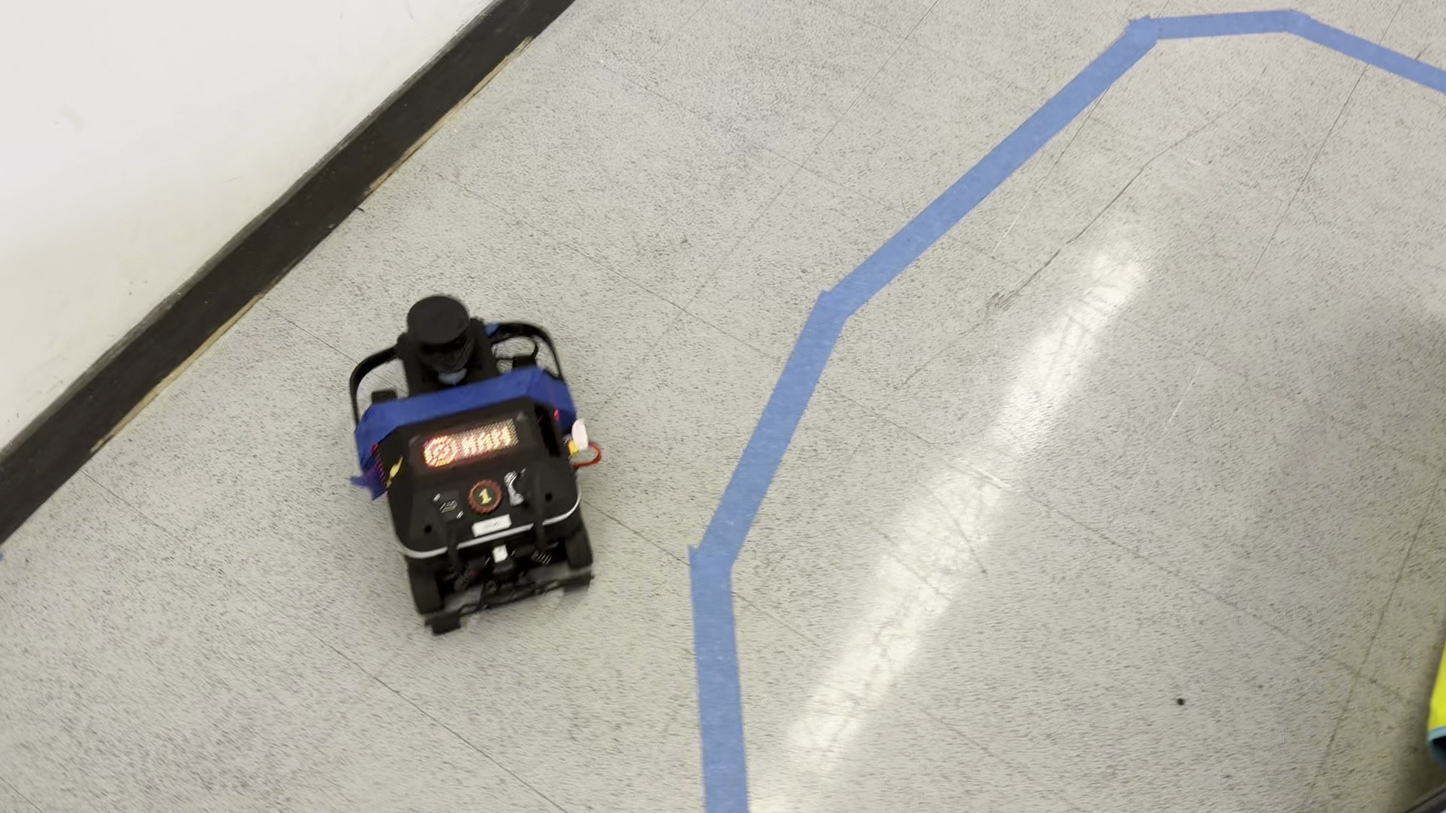racecar: (351, 297, 602, 632)
